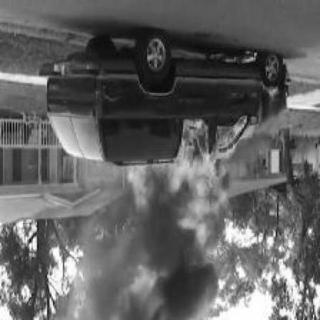Fire: (129, 118, 253, 274), (212, 48, 260, 66), (264, 84, 284, 102)
Smoke: (75, 187, 223, 317)
